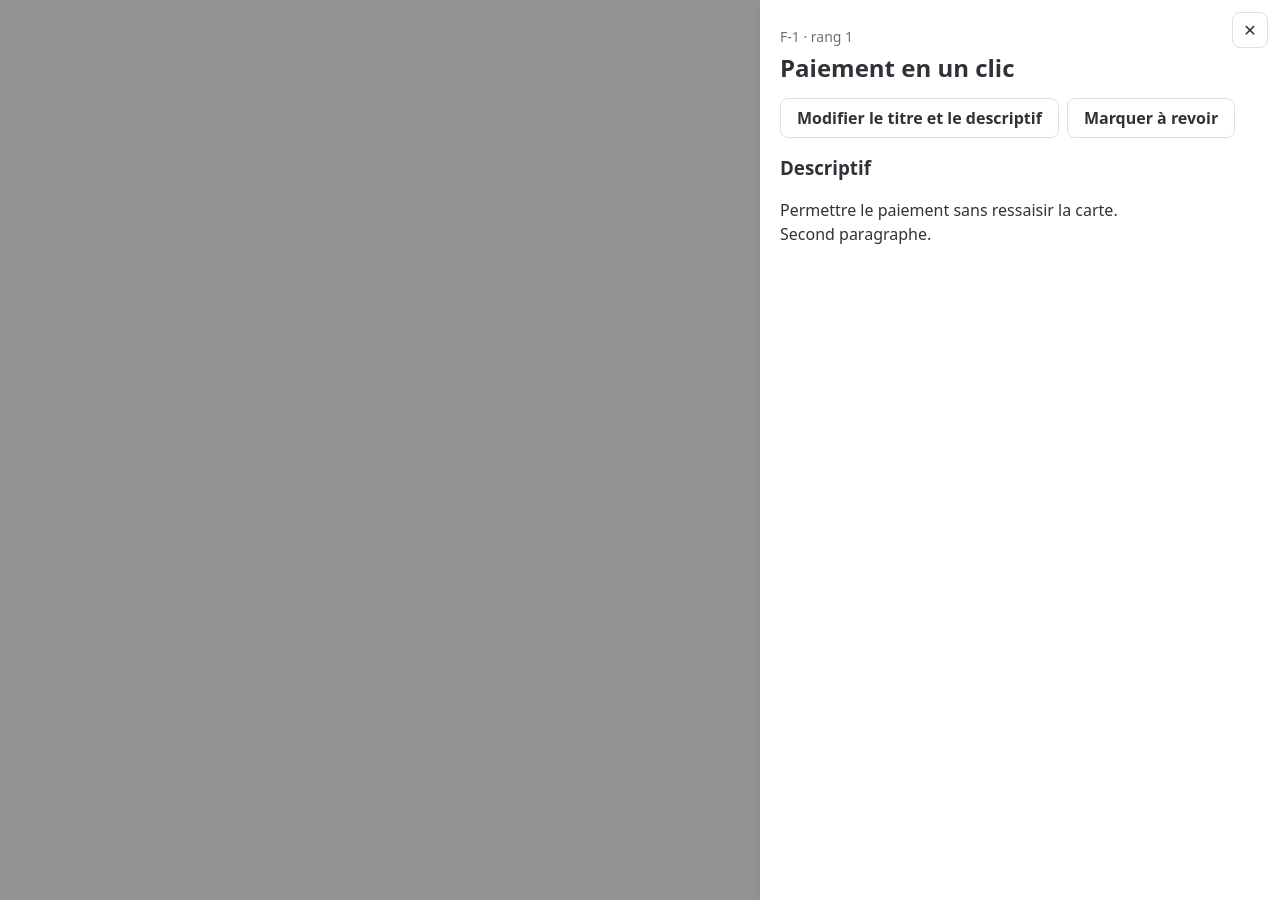
Test: FeatureDetailPanelComponent › cancels without sending anything and restores the content
Click the button "Modifier le titre et le descriptif" at [919, 118], box [780,98,1059,138]
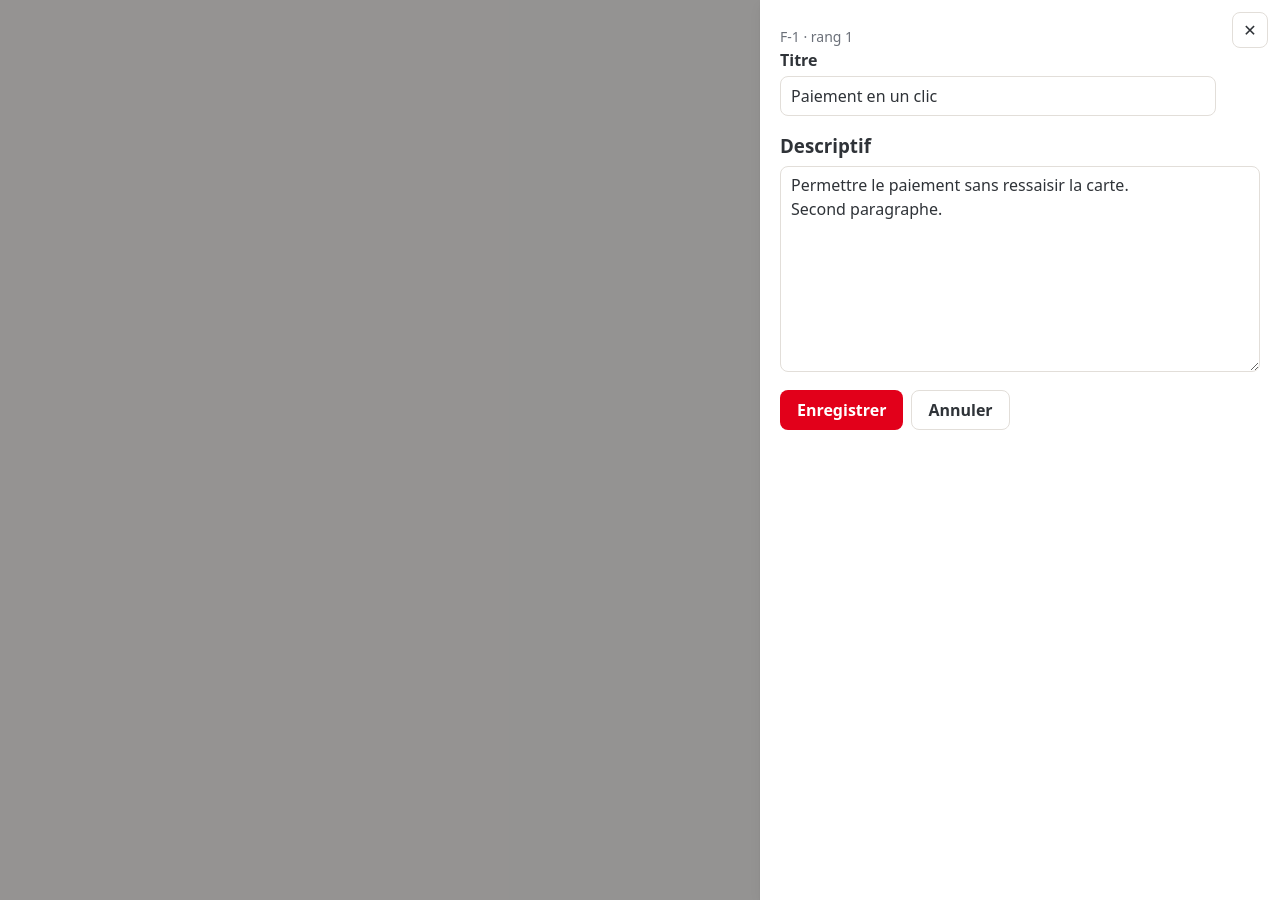
Replace the text in the field with id "detail-title-input" with "Autre" at [998, 96], box [780,76,1216,116]
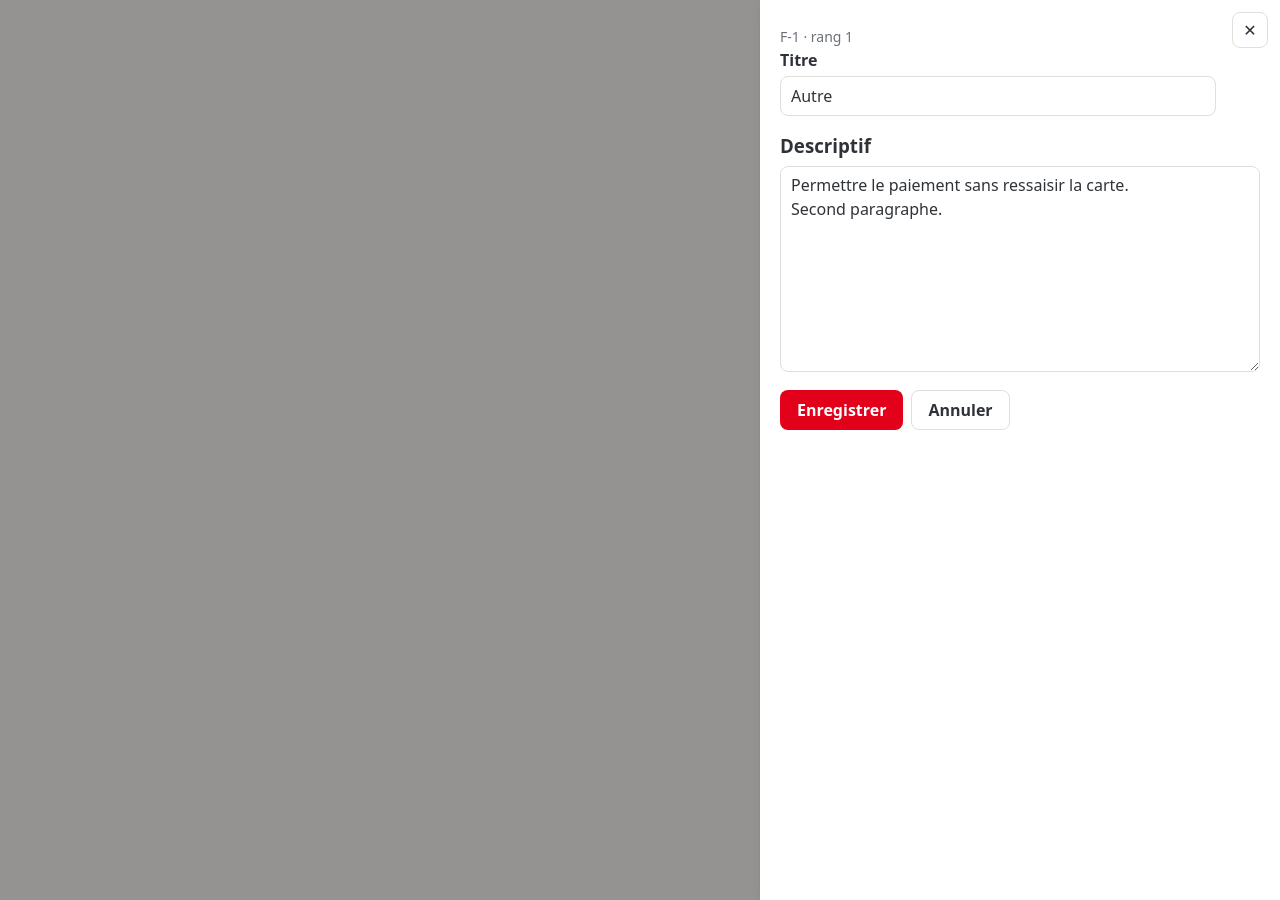
Click the button "Annuler" at [961, 410], box [912,390,1010,430]
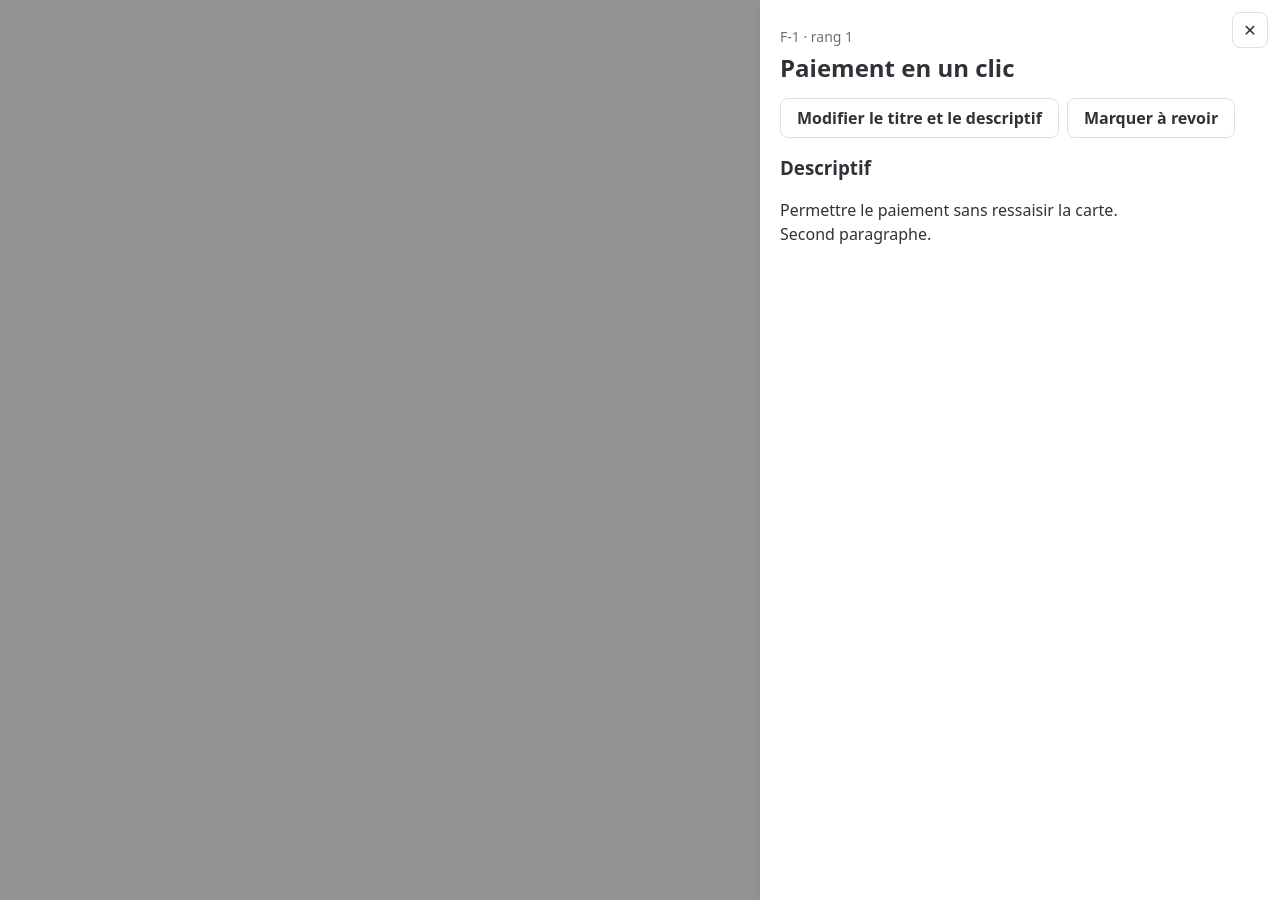
expect the heading "Paiement en un clic" is shown: met, box [780,51,1014,84]
expect the label with id "detail-title-input" is gone: met
